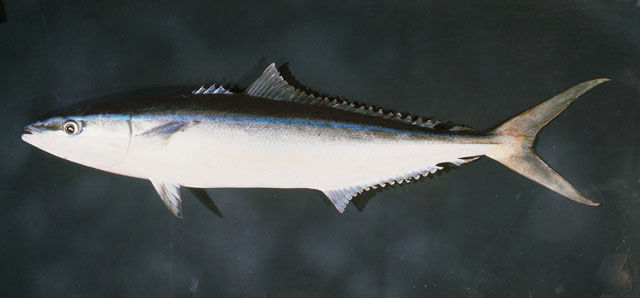fish: (19, 62, 612, 219)
